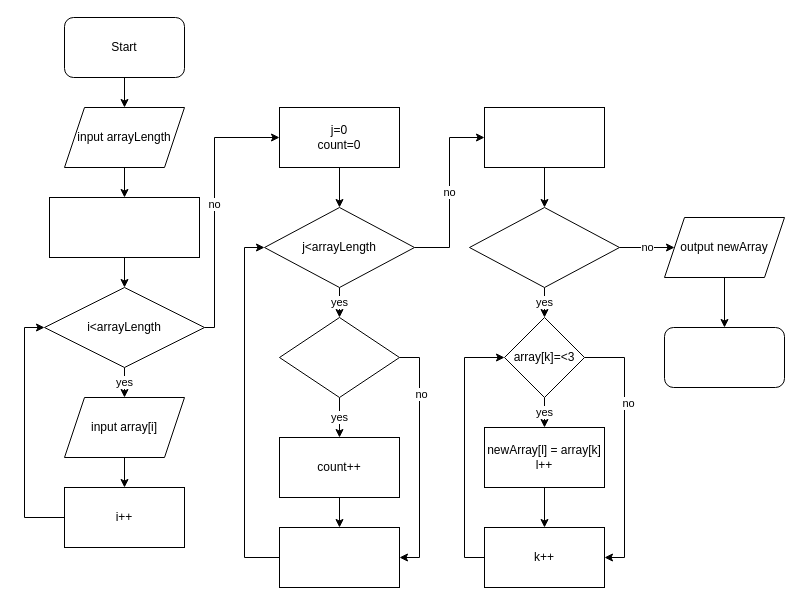
Some shapes in this 802 by 605 pixel diagram are drawn without their labels. Each missing label, with the centre of its shape:
"array[arrayLength] i=0" belongs at [124,227].
"array[j]=<3" belongs at [339,357].
"end" belongs at [724,357].
"j++" belongs at [339,557].
"k<arrayLength" belongs at [544,247].
"newArray[count] k=0 l=0" belongs at [544,137].
